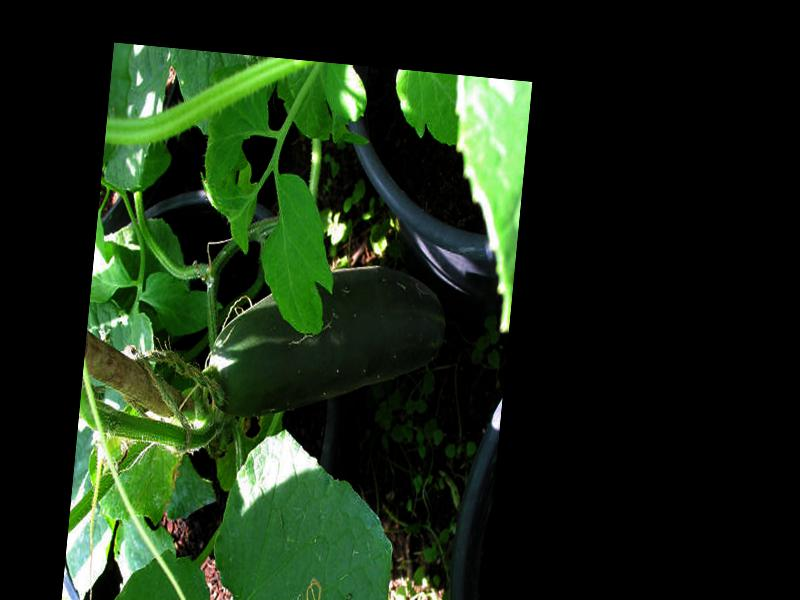Cucumber: (202, 252, 450, 435)
